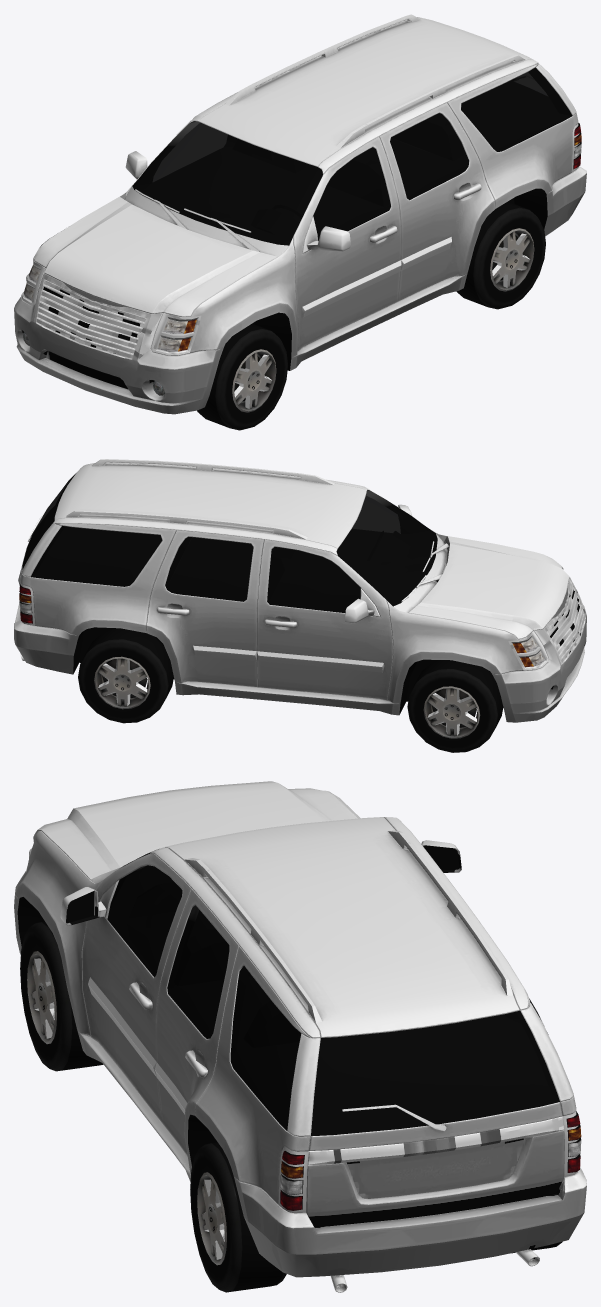
The model's file is suv.glb.
3 renders of one model, top to bottom at view 1: azimuth 30°, elevation 25°; view 2: azimuth 150°, elevation 25°; view 3: azimuth 270°, elevation 25°, orthographic. The views are drawn at different scales.
Parts seen in each view (by area): view 1: SUV Body, Wheel_E001, Wheel_E; view 2: SUV Body, Wheel_E003, Wheel_E002; view 3: SUV Body, Wheel_E001, Wheel_E.
Boxes of the visible parts, x1,y1,x2,y2 form: SUV Body: (14, 14, 586, 414); Wheel_E001: (456, 201, 545, 309); Wheel_E: (197, 323, 287, 430); SUV Body: (14, 459, 586, 722); Wheel_E003: (78, 628, 173, 723); Wheel_E002: (407, 660, 503, 752); SUV Body: (14, 781, 586, 1292); Wheel_E001: (190, 1142, 286, 1292); Wheel_E: (20, 921, 103, 1071).
Size of the model in its own units: 4.65 by 1.73 by 2.84.
4 materials, 3 textured.
